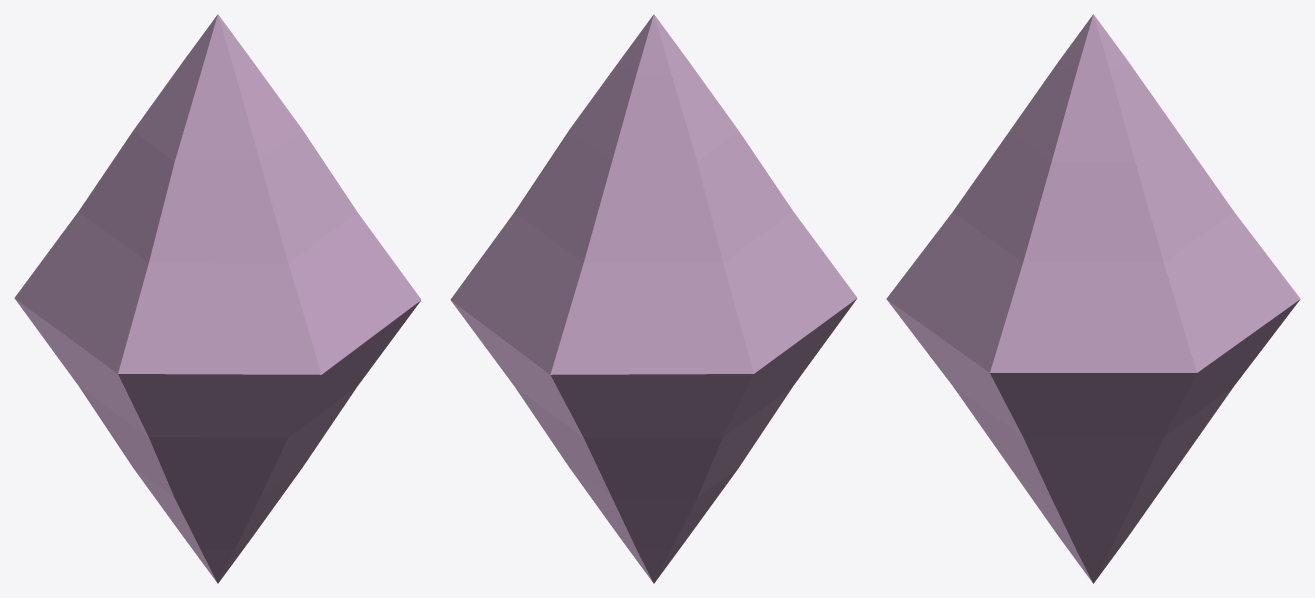
Rendered from crystal_full.fbx.
3 renders of one model, left to right at view 1: azimuth 30°, elevation 25°; view 2: azimuth 150°, elevation 25°; view 3: azimuth 270°, elevation 25°, orthographic.
Visible parts, largest first — view 1: Cone; view 2: Cone; view 3: Cone.
Boxes of the visible parts, left/top/right/bottom form: Cone: left=14, top=14, right=421, bottom=583; Cone: left=450, top=14, right=857, bottom=583; Cone: left=886, top=14, right=1300, bottom=583.
Bounding box in the file's own units: 83.62 × 150 × 98.84.
